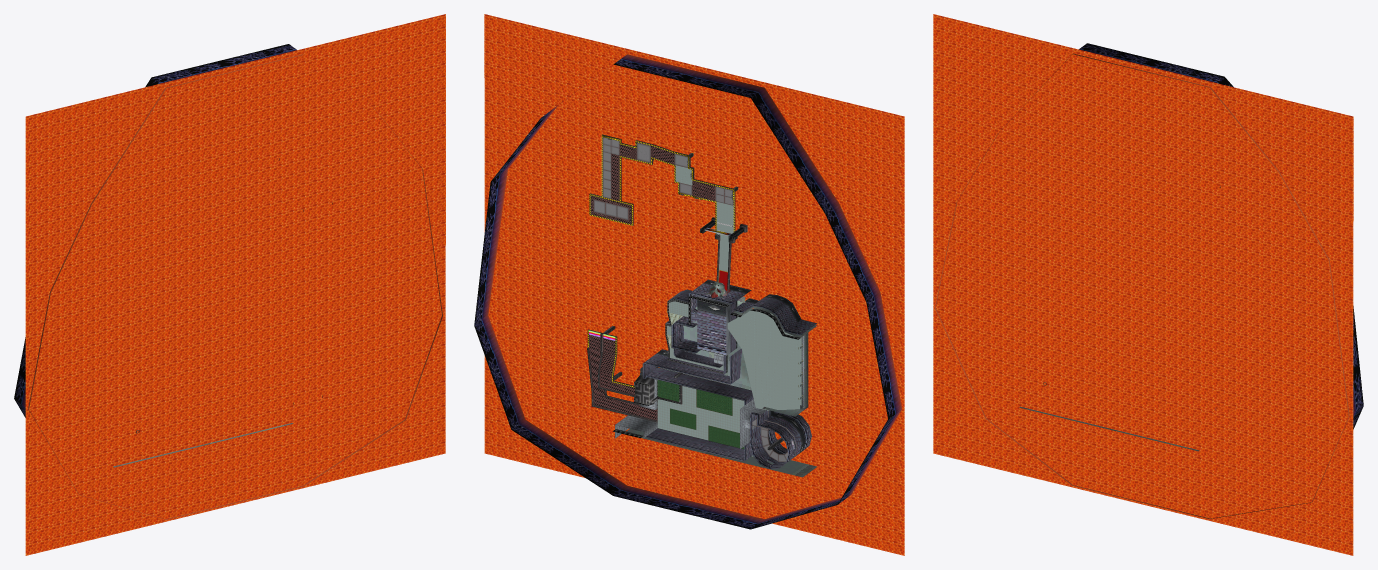
The picture shows the model from 3 angles, left to right: view 1: azimuth 30°, elevation 25°; view 2: azimuth 150°, elevation 25°; view 3: azimuth 330°, elevation 25°; orthographic projection.
Parts seen in each view (by area): view 1: yougan2, c_back1_2; view 2: yougan2, c_back1_2, wall_out, cn_yuka2, A_cn_ami, cn_ami_as, grass.003, wall.001, cn_heri, cn_danger, af_cn_oge, poal; view 3: yougan2, c_back1_2.
Part boxes in pixels (x1,y1,x2,y2): yougan2: [25, 14, 445, 555]; c_back1_2: [14, 44, 442, 519]; yougan2: [484, 14, 904, 555]; c_back1_2: [474, 54, 902, 529]; wall_out: [642, 279, 816, 468]; cn_yuka2: [626, 165, 816, 477]; A_cn_ami: [589, 144, 715, 420]; cn_ami_as: [593, 137, 797, 461]; grass.003: [657, 380, 744, 448]; wall.001: [615, 296, 803, 448]; cn_heri: [587, 134, 784, 454]; cn_danger: [587, 135, 734, 387]; af_cn_oge: [613, 228, 800, 438]; poal: [603, 153, 783, 450]; yougan2: [933, 14, 1353, 555]; c_back1_2: [935, 43, 1363, 519].
Bounding box in the file's own units: 152289 × 152137 × 15715.
Materials: 22 (22 with a texture image).
